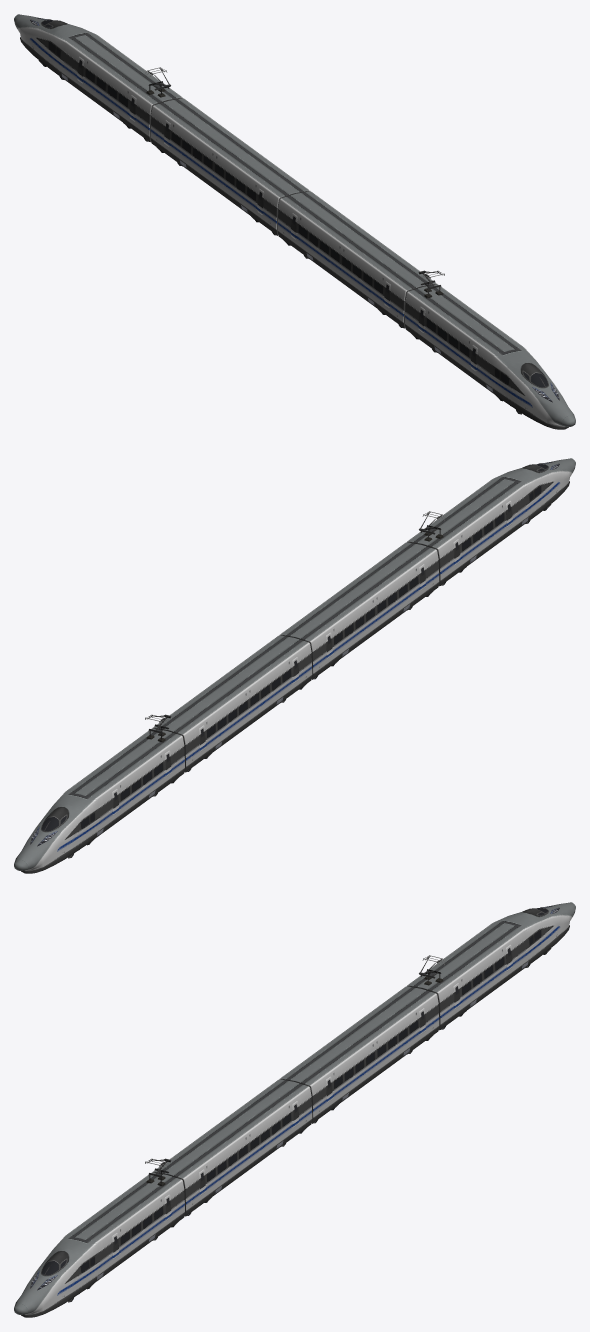
The model's file is High_Speed_Train.glb.
3 renders of one model, top to bottom at view 1: azimuth 30°, elevation 25°; view 2: azimuth 150°, elevation 25°; view 3: azimuth 330°, elevation 25°, orthographic.
Parts seen in each view (by area): view 1: High_Speed_Train__LOD3; view 2: High_Speed_Train__LOD3; view 3: High_Speed_Train__LOD3.
Part boxes in pixels (x1=…): High_Speed_Train__LOD3: x1=14, y1=14, x2=575, y2=429; High_Speed_Train__LOD3: x1=14, y1=458, x2=575, y2=873; High_Speed_Train__LOD3: x1=14, y1=902, x2=575, y2=1317.
Bounding box in the file's own units: 3.43 × 5.8 × 90.3.
2 materials, 2 textured.
